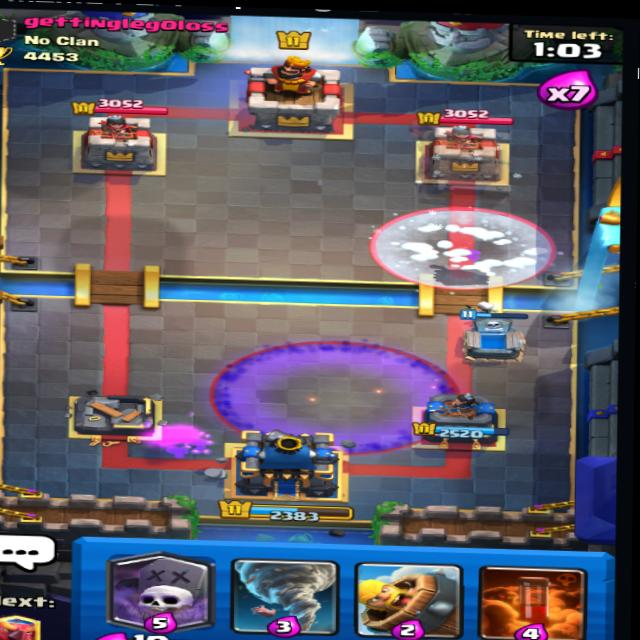freeze: (365, 194, 566, 292)
graveyard: (213, 329, 462, 458)
royal-delivery: (425, 257, 497, 291)
